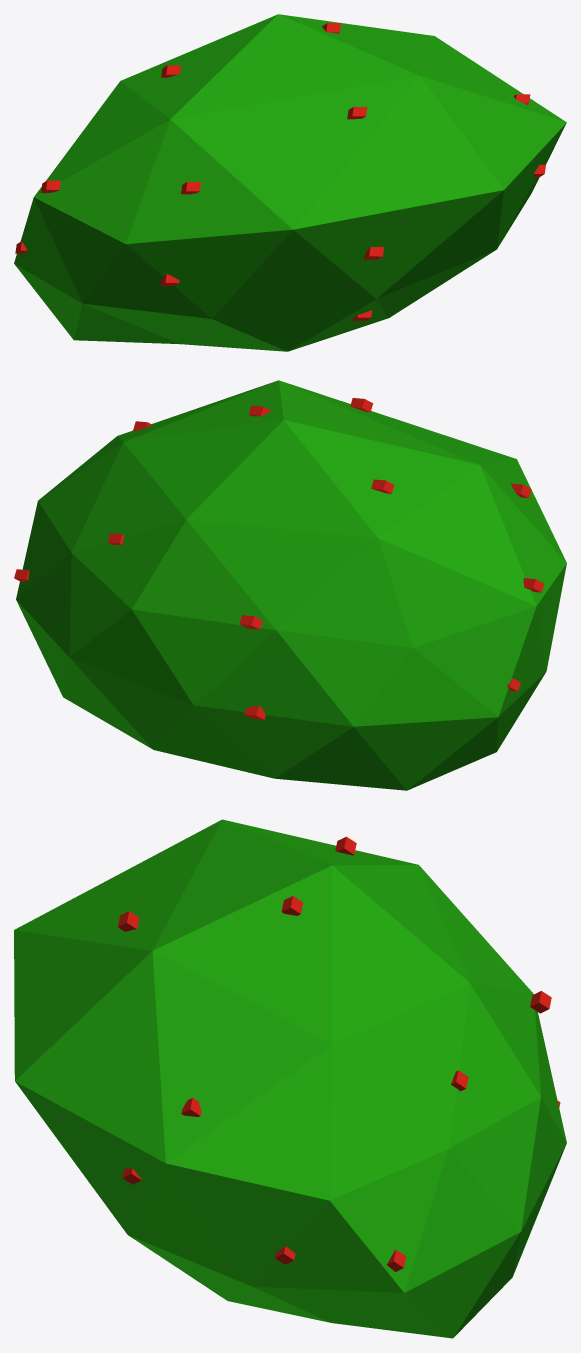
The model's file is Bush_4.fbx.
3 views of the same model, one above another, from view 1: azimuth 30°, elevation 25°; view 2: azimuth 150°, elevation 25°; view 3: azimuth 270°, elevation 25° (orthographic). The views are drawn at different scales.
Visible parts, largest first — view 1: Bush4_mesh; view 2: Bush4_mesh; view 3: Bush4_mesh.
Part boxes in pixels (<box>): Bush4_mesh: <box>14,14,566,351</box>; Bush4_mesh: <box>14,380,566,790</box>; Bush4_mesh: <box>14,819,566,1338</box>.
Bounding box in the file's own units: 241 × 146 × 181.
